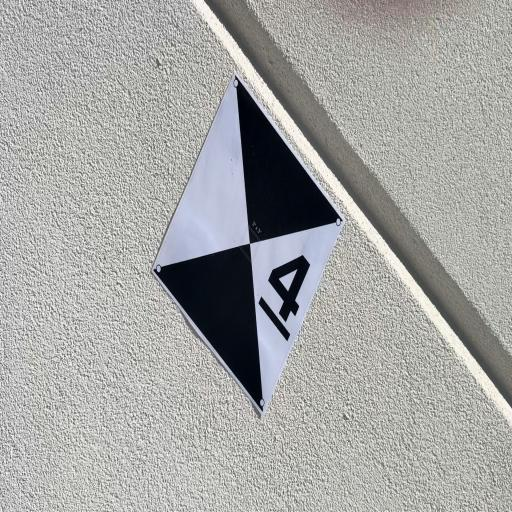target4: (151, 71, 345, 418)
